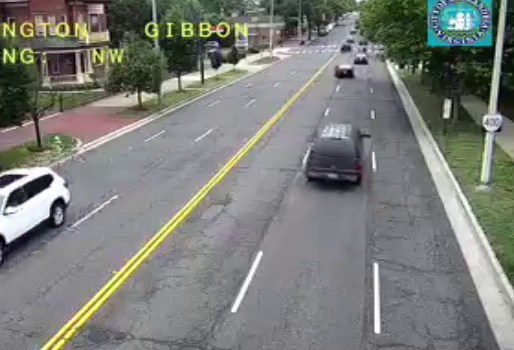car: (306, 124, 363, 184), (335, 65, 355, 79)
